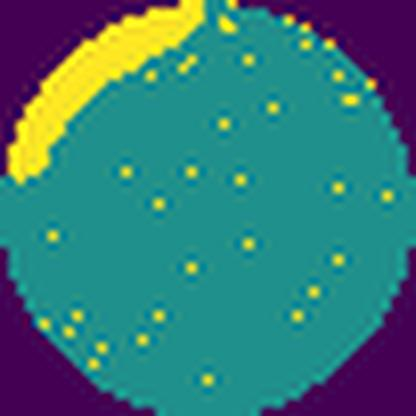Edge-Loc: (4, 0, 206, 185)
